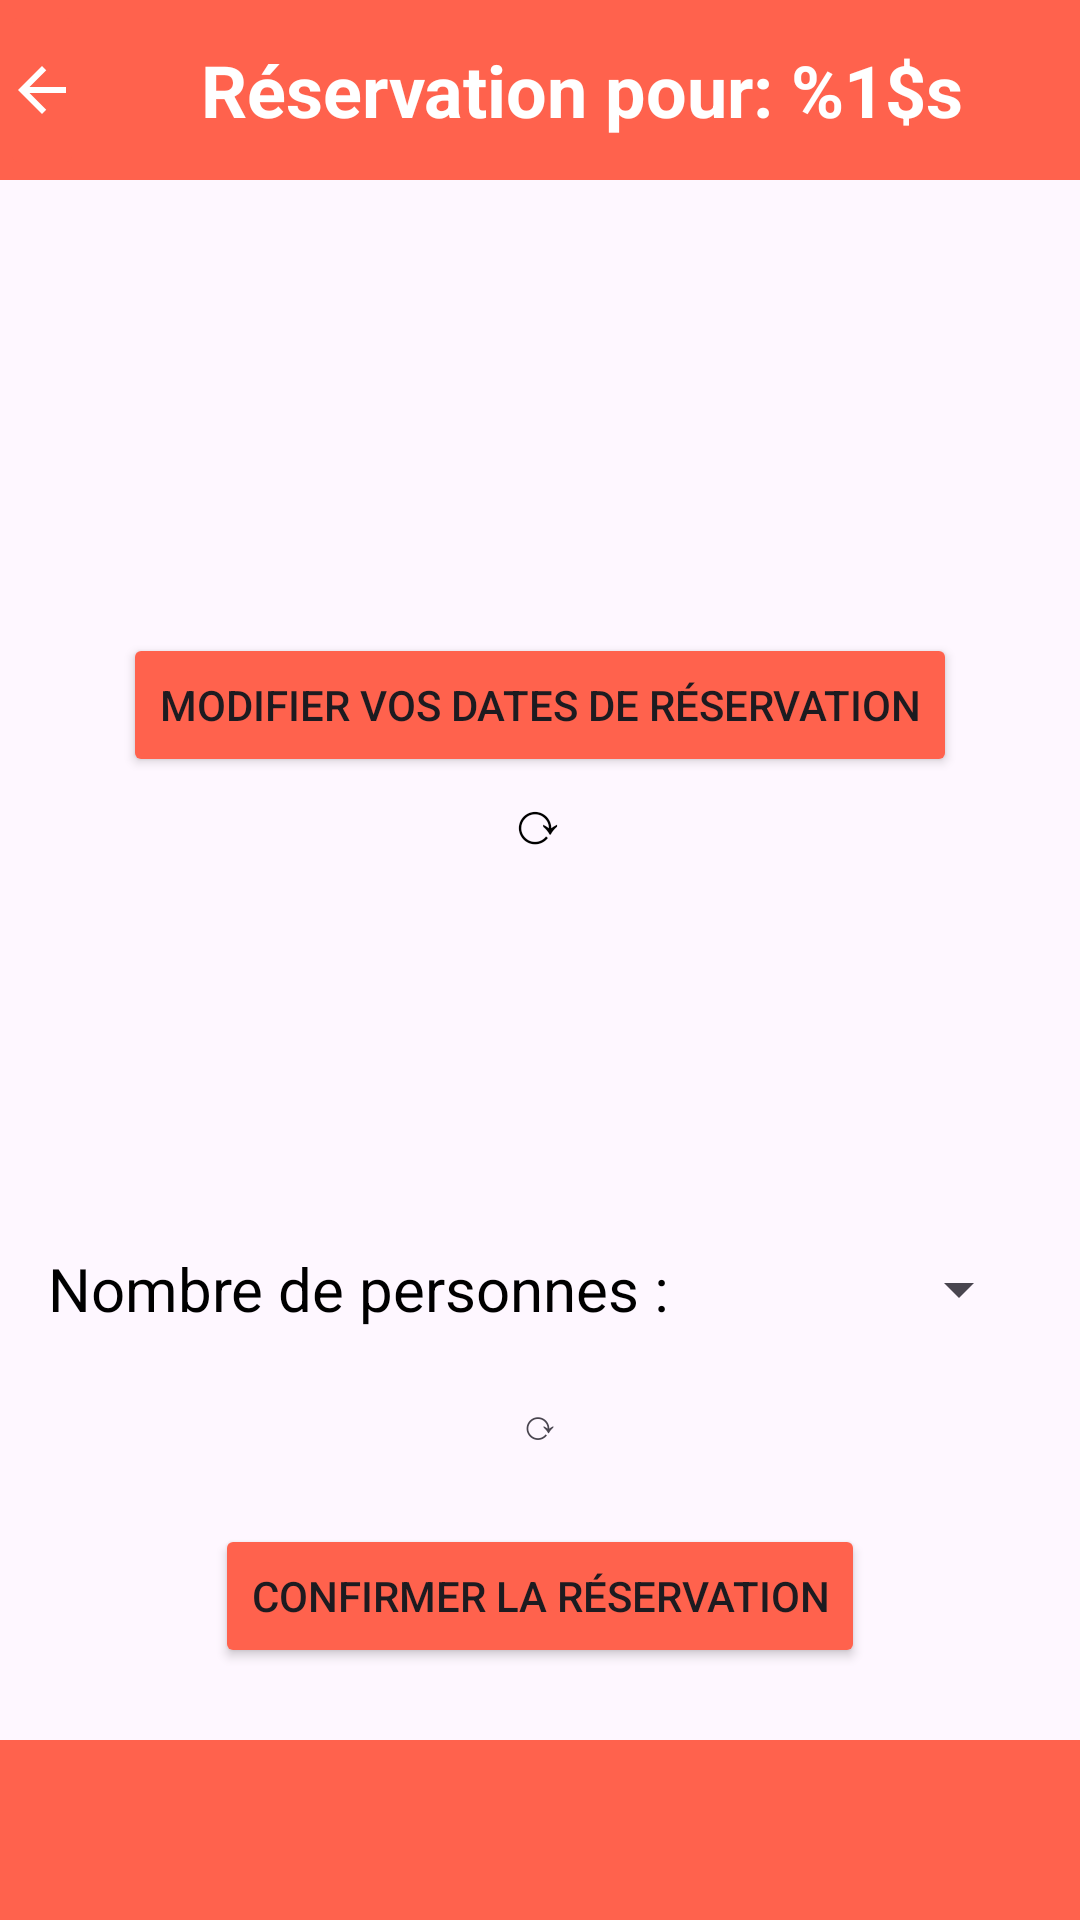

Where icons sit on this 1080px x 1920px app screen, as [x1, y1, x2, y2]:
previous: [18, 66, 66, 114]
